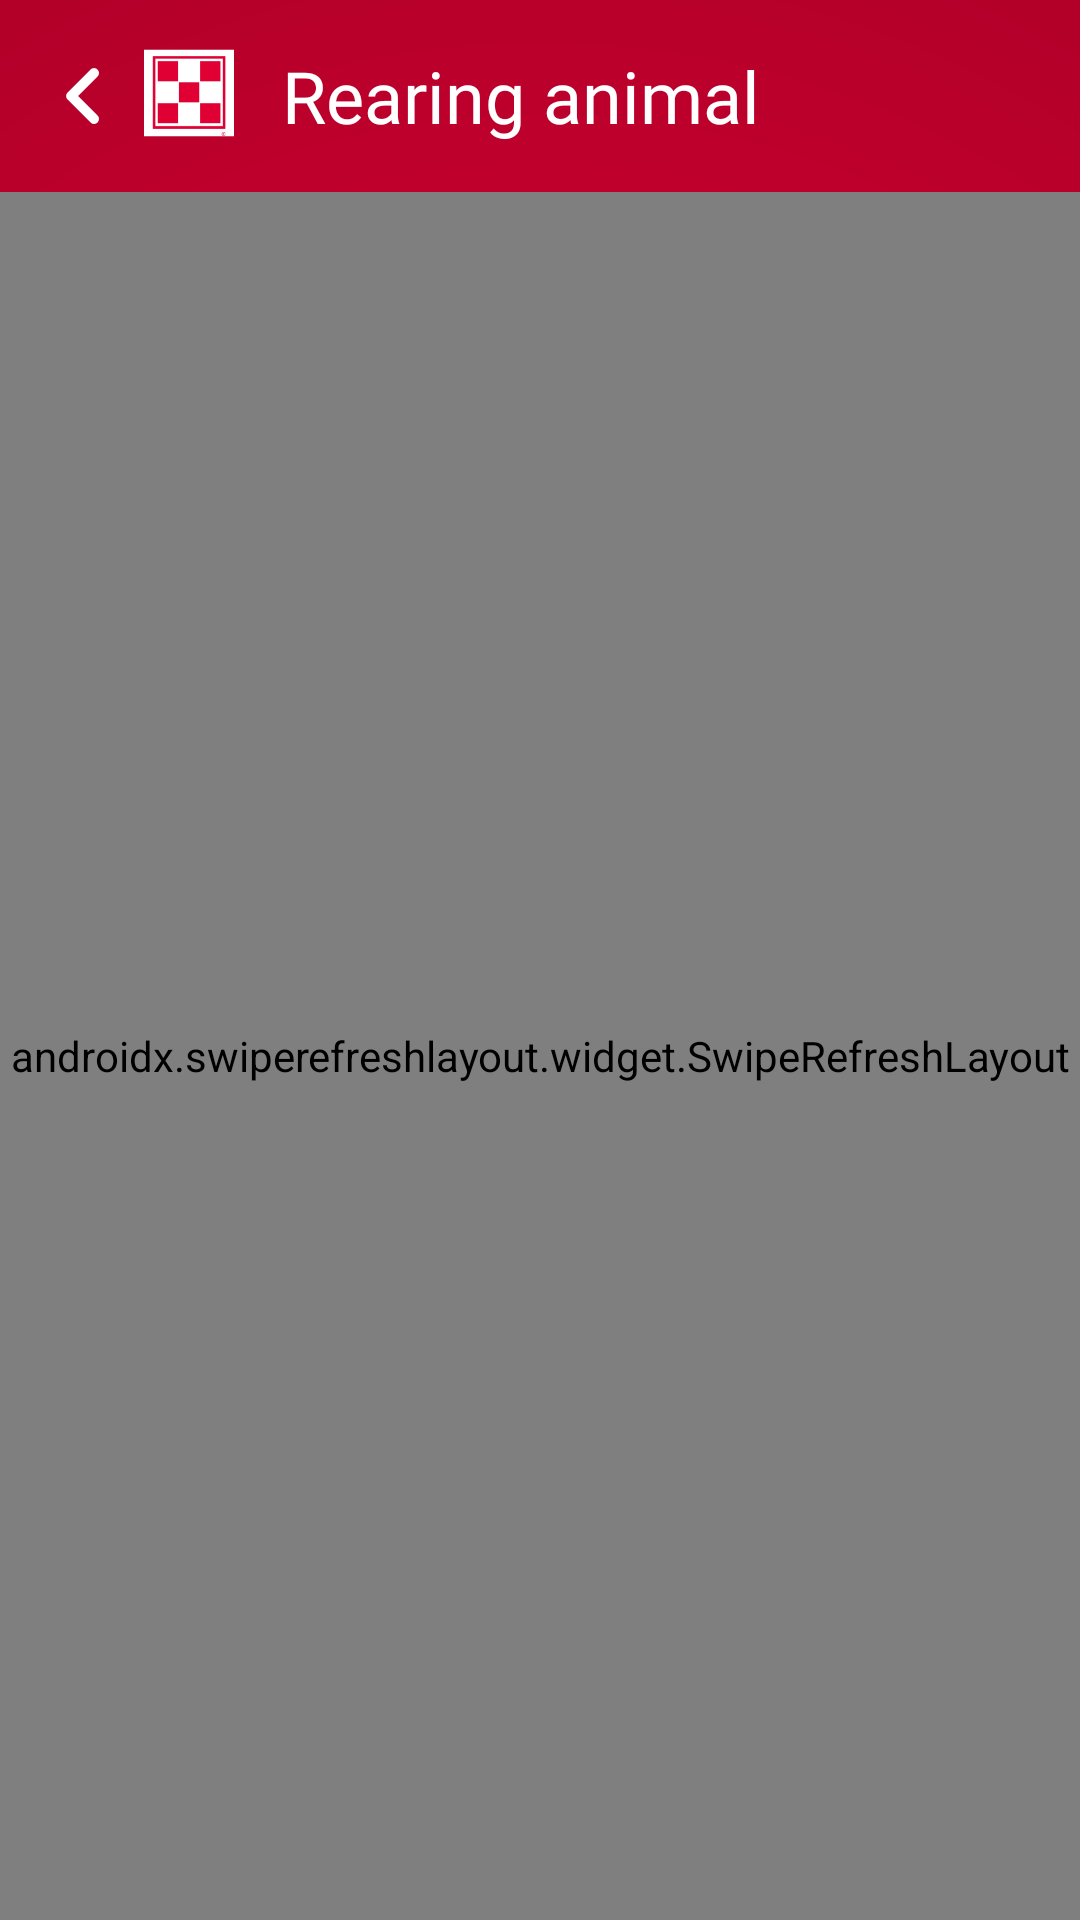

Icon click points for this 1080w x 1920h phone screenshot, format [x,y]:
arrow left: [82,96]
